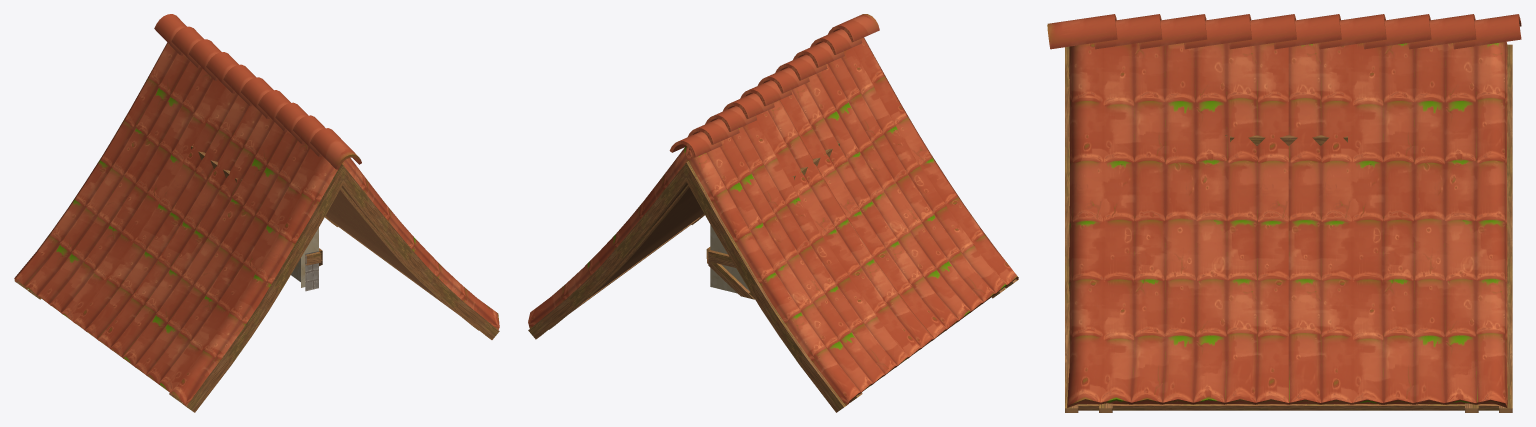
Rendered from barracks.glb.
The picture shows the model from 3 angles, left to right: view 1: azimuth 30°, elevation 25°; view 2: azimuth 150°, elevation 25°; view 3: azimuth 270°, elevation 25°; orthographic projection. The views are drawn at different scales.
Visible parts, largest first — view 1: Apptya_AuthoredBarracks; view 2: Apptya_AuthoredBarracks; view 3: Apptya_AuthoredBarracks.
Boxes of the visible parts, left/top/right/bottom form: Apptya_AuthoredBarracks: left=14, top=14, right=499, bottom=412; Apptya_AuthoredBarracks: left=528, top=14, right=1018, bottom=412; Apptya_AuthoredBarracks: left=1047, top=14, right=1521, bottom=412.
Size of the model in its own units: 8.25 by 5.67 by 8.03.
11 materials, 11 textured.
